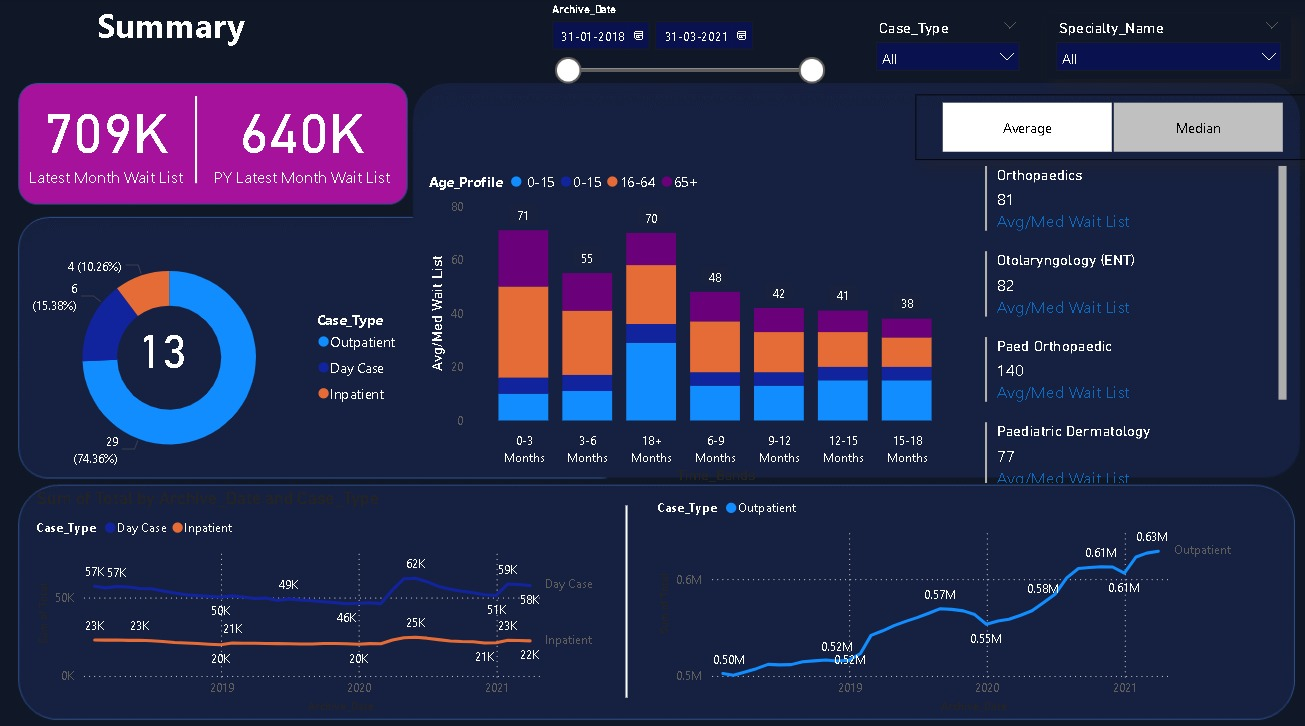

This screenshot's page, from the dashboard's own definition file:
{"tool":"powerbi","page":{"name":"Summary_Page","canvas":[1280,720],"ordinal":0},"visuals":[{"type":"card","fields":{"Values":["All_Data.Latest Month Wait List"]},"box":[16,80,176,112],"z":0},{"type":"card","fields":{"Values":["All_Data.PY Latest Month Wait List"]},"box":[192.3,80.3,207.4,112.1],"z":1000},{"type":"slicer","fields":{"Values":["Table.Calc Method"]},"box":[896,96,384,64],"z":2000},{"type":"donutChart","fields":{"Category":["All_Data.Case_Type"],"Y":["All_Data.Avg/Med Wait List"]},"box":[16,224,384,256],"z":3000},{"type":"columnChart","fields":{"Y":["All_Data.Avg/Med Wait List"],"Category":["All_Data.Time_Bands"],"Series":["All_Data.Age_Profile"]},"box":[416,160,528,320],"z":4000},{"type":"multiRowCard","fields":{"Values":["All_Data.Speciality_Name","All_Data.Avg/Med Wait List"]},"box":[960,159.5,304.7,320.5],"z":5000},{"type":"lineChart","fields":{"Category":["All_Data.Archive_Date"],"Y":["Sum(All_Data.Total)"],"Series":["All_Data.Case_Type"]},"box":[32,480,560,224],"z":6000},{"type":"lineChart","fields":{"Category":["All_Data.Archive_Date"],"Y":["Sum(All_Data.Total)"],"Series":["All_Data.Case_Type"]},"box":[640,480,576,224],"z":7000},{"type":"slicer","fields":{"Values":["All_Data.Archive_Date"]},"box":[528,0,288,96],"z":8000},{"type":"slicer","fields":{"Values":["All_Data.Case_Type"]},"box":[848,16,160,64],"z":9000},{"type":"slicer","fields":{"Values":["All_Data.Specialty_Name"]},"box":[1024,16,240,64],"z":10000},{"type":"textbox","box":[16,0,304,80],"z":11000},{"type":"card","fields":{"Values":["All_Data.Avg/Med Wait List"]},"box":[96,320,128,64],"z":12000},{"type":"shape","box":[134.2,96.3,118.4,85.3],"z":13000},{"type":"shape","box":[554.2,497.4,118.4,187.9],"z":14000}]}

Visuals, with their boxes in screenshot pixels (x1, y1, x2, y2), scaled from the page's 1280x720 canvas onto the 1305x726 screenshot:
card - All_Data.Latest Month Wait List: {"x1": 16, "y1": 81, "x2": 196, "y2": 194}
card - All_Data.PY Latest Month Wait List: {"x1": 196, "y1": 81, "x2": 408, "y2": 194}
slicer - Table.Calc Method: {"x1": 914, "y1": 97, "x2": 1304, "y2": 161}
donutChart - All_Data.Case_Type x All_Data.Avg/Med Wait List: {"x1": 16, "y1": 226, "x2": 408, "y2": 484}
columnChart - All_Data.Avg/Med Wait List x All_Data.Time_Bands: {"x1": 424, "y1": 161, "x2": 962, "y2": 484}
multiRowCard - All_Data.Speciality_Name x All_Data.Avg/Med Wait List: {"x1": 979, "y1": 161, "x2": 1289, "y2": 484}
lineChart - All_Data.Archive_Date x Sum(All_Data.Total): {"x1": 33, "y1": 484, "x2": 604, "y2": 710}
lineChart - All_Data.Archive_Date x Sum(All_Data.Total): {"x1": 652, "y1": 484, "x2": 1240, "y2": 710}
slicer - All_Data.Archive_Date: {"x1": 538, "y1": 0, "x2": 832, "y2": 97}
slicer - All_Data.Case_Type: {"x1": 865, "y1": 16, "x2": 1028, "y2": 81}
slicer - All_Data.Specialty_Name: {"x1": 1044, "y1": 16, "x2": 1289, "y2": 81}
textbox: {"x1": 16, "y1": 0, "x2": 326, "y2": 81}
card - All_Data.Avg/Med Wait List: {"x1": 98, "y1": 323, "x2": 228, "y2": 387}
shape: {"x1": 137, "y1": 97, "x2": 258, "y2": 183}
shape: {"x1": 565, "y1": 502, "x2": 686, "y2": 691}
